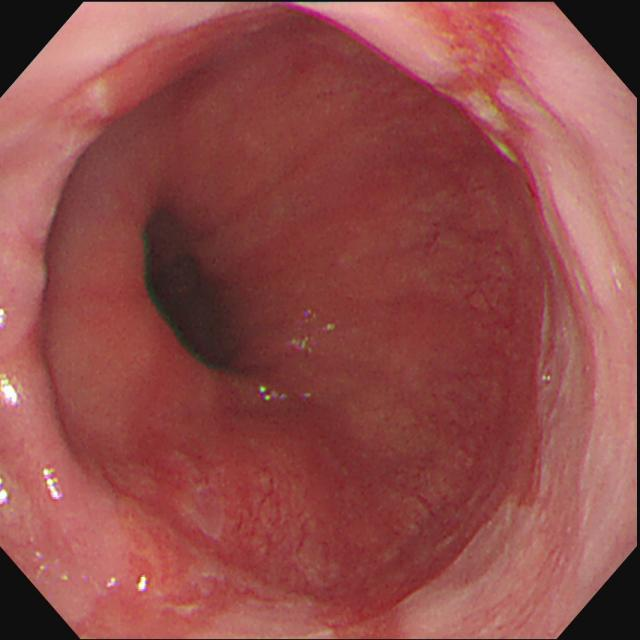A: (174, 420, 344, 586), (89, 516, 275, 640), (419, 2, 532, 148), (305, 554, 413, 640)
E: (140, 209, 261, 385)
U: (2, 375, 28, 411), (41, 465, 64, 503), (2, 473, 10, 508), (136, 575, 149, 592)
